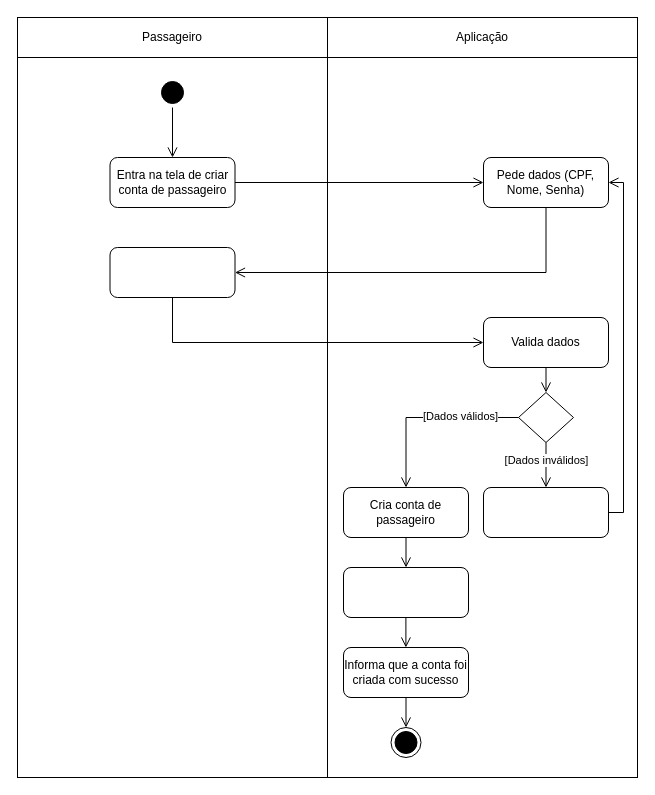
This 655x795 diagram has some shape labels left out. The shapes that lost their labels are listed below. From the top down, each one's centre as x and y in pixels, then its label:
(172,272): Insere dados (CPF, Nome, Senha)
(545,512): Informa que os dados são inválidos
(405,592): Realiza login com a nova conta
